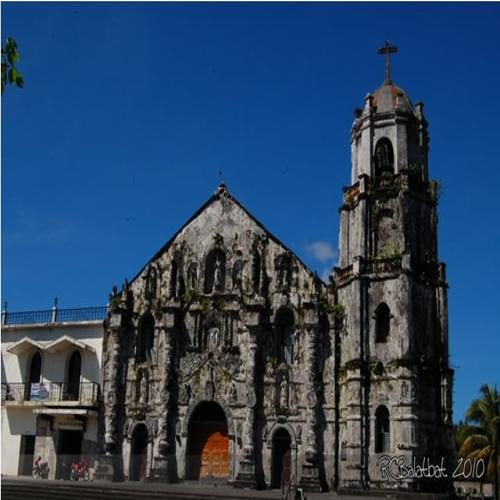Daraga Church: (84, 31, 454, 488)
